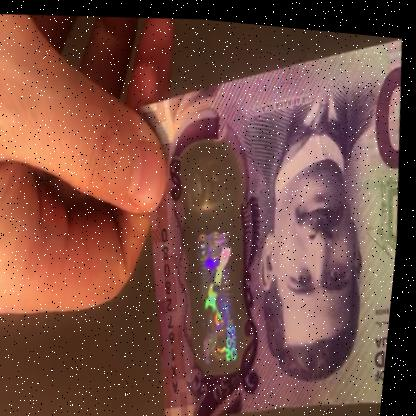50F: (174, 151, 261, 365)
